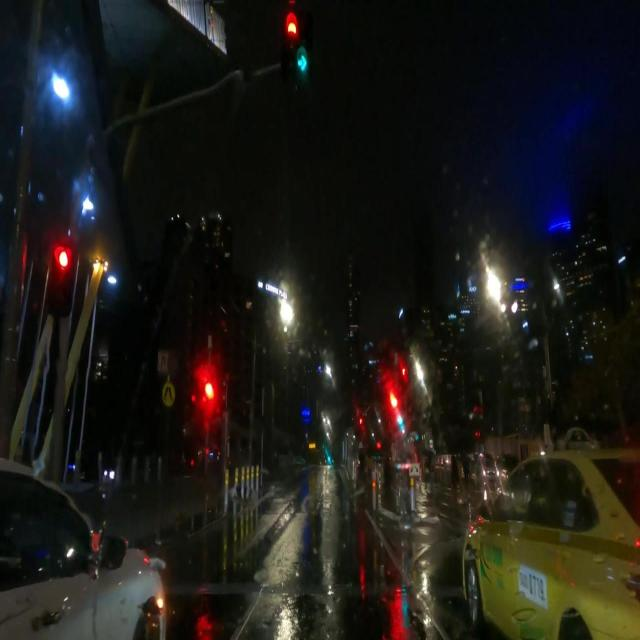Car: (464, 455, 635, 639)
